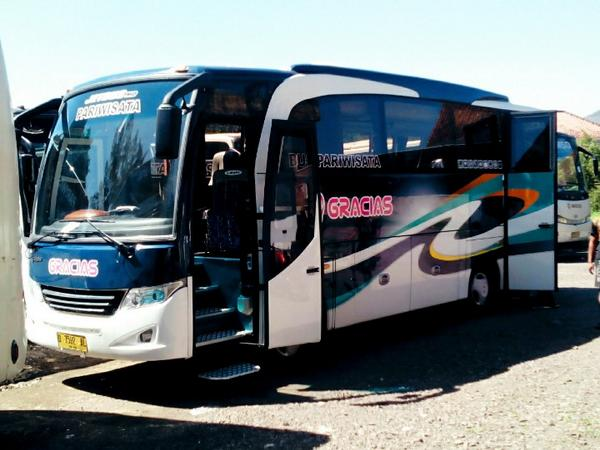plate: (56, 335, 85, 352)
